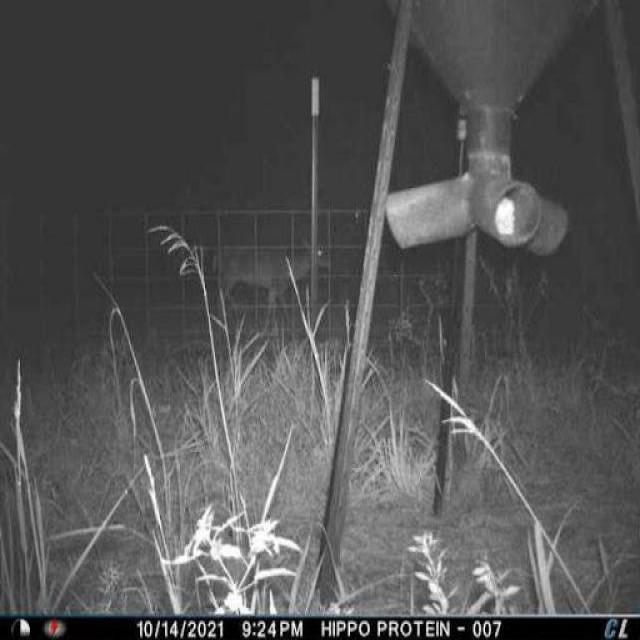deer: (206, 218, 335, 334)
